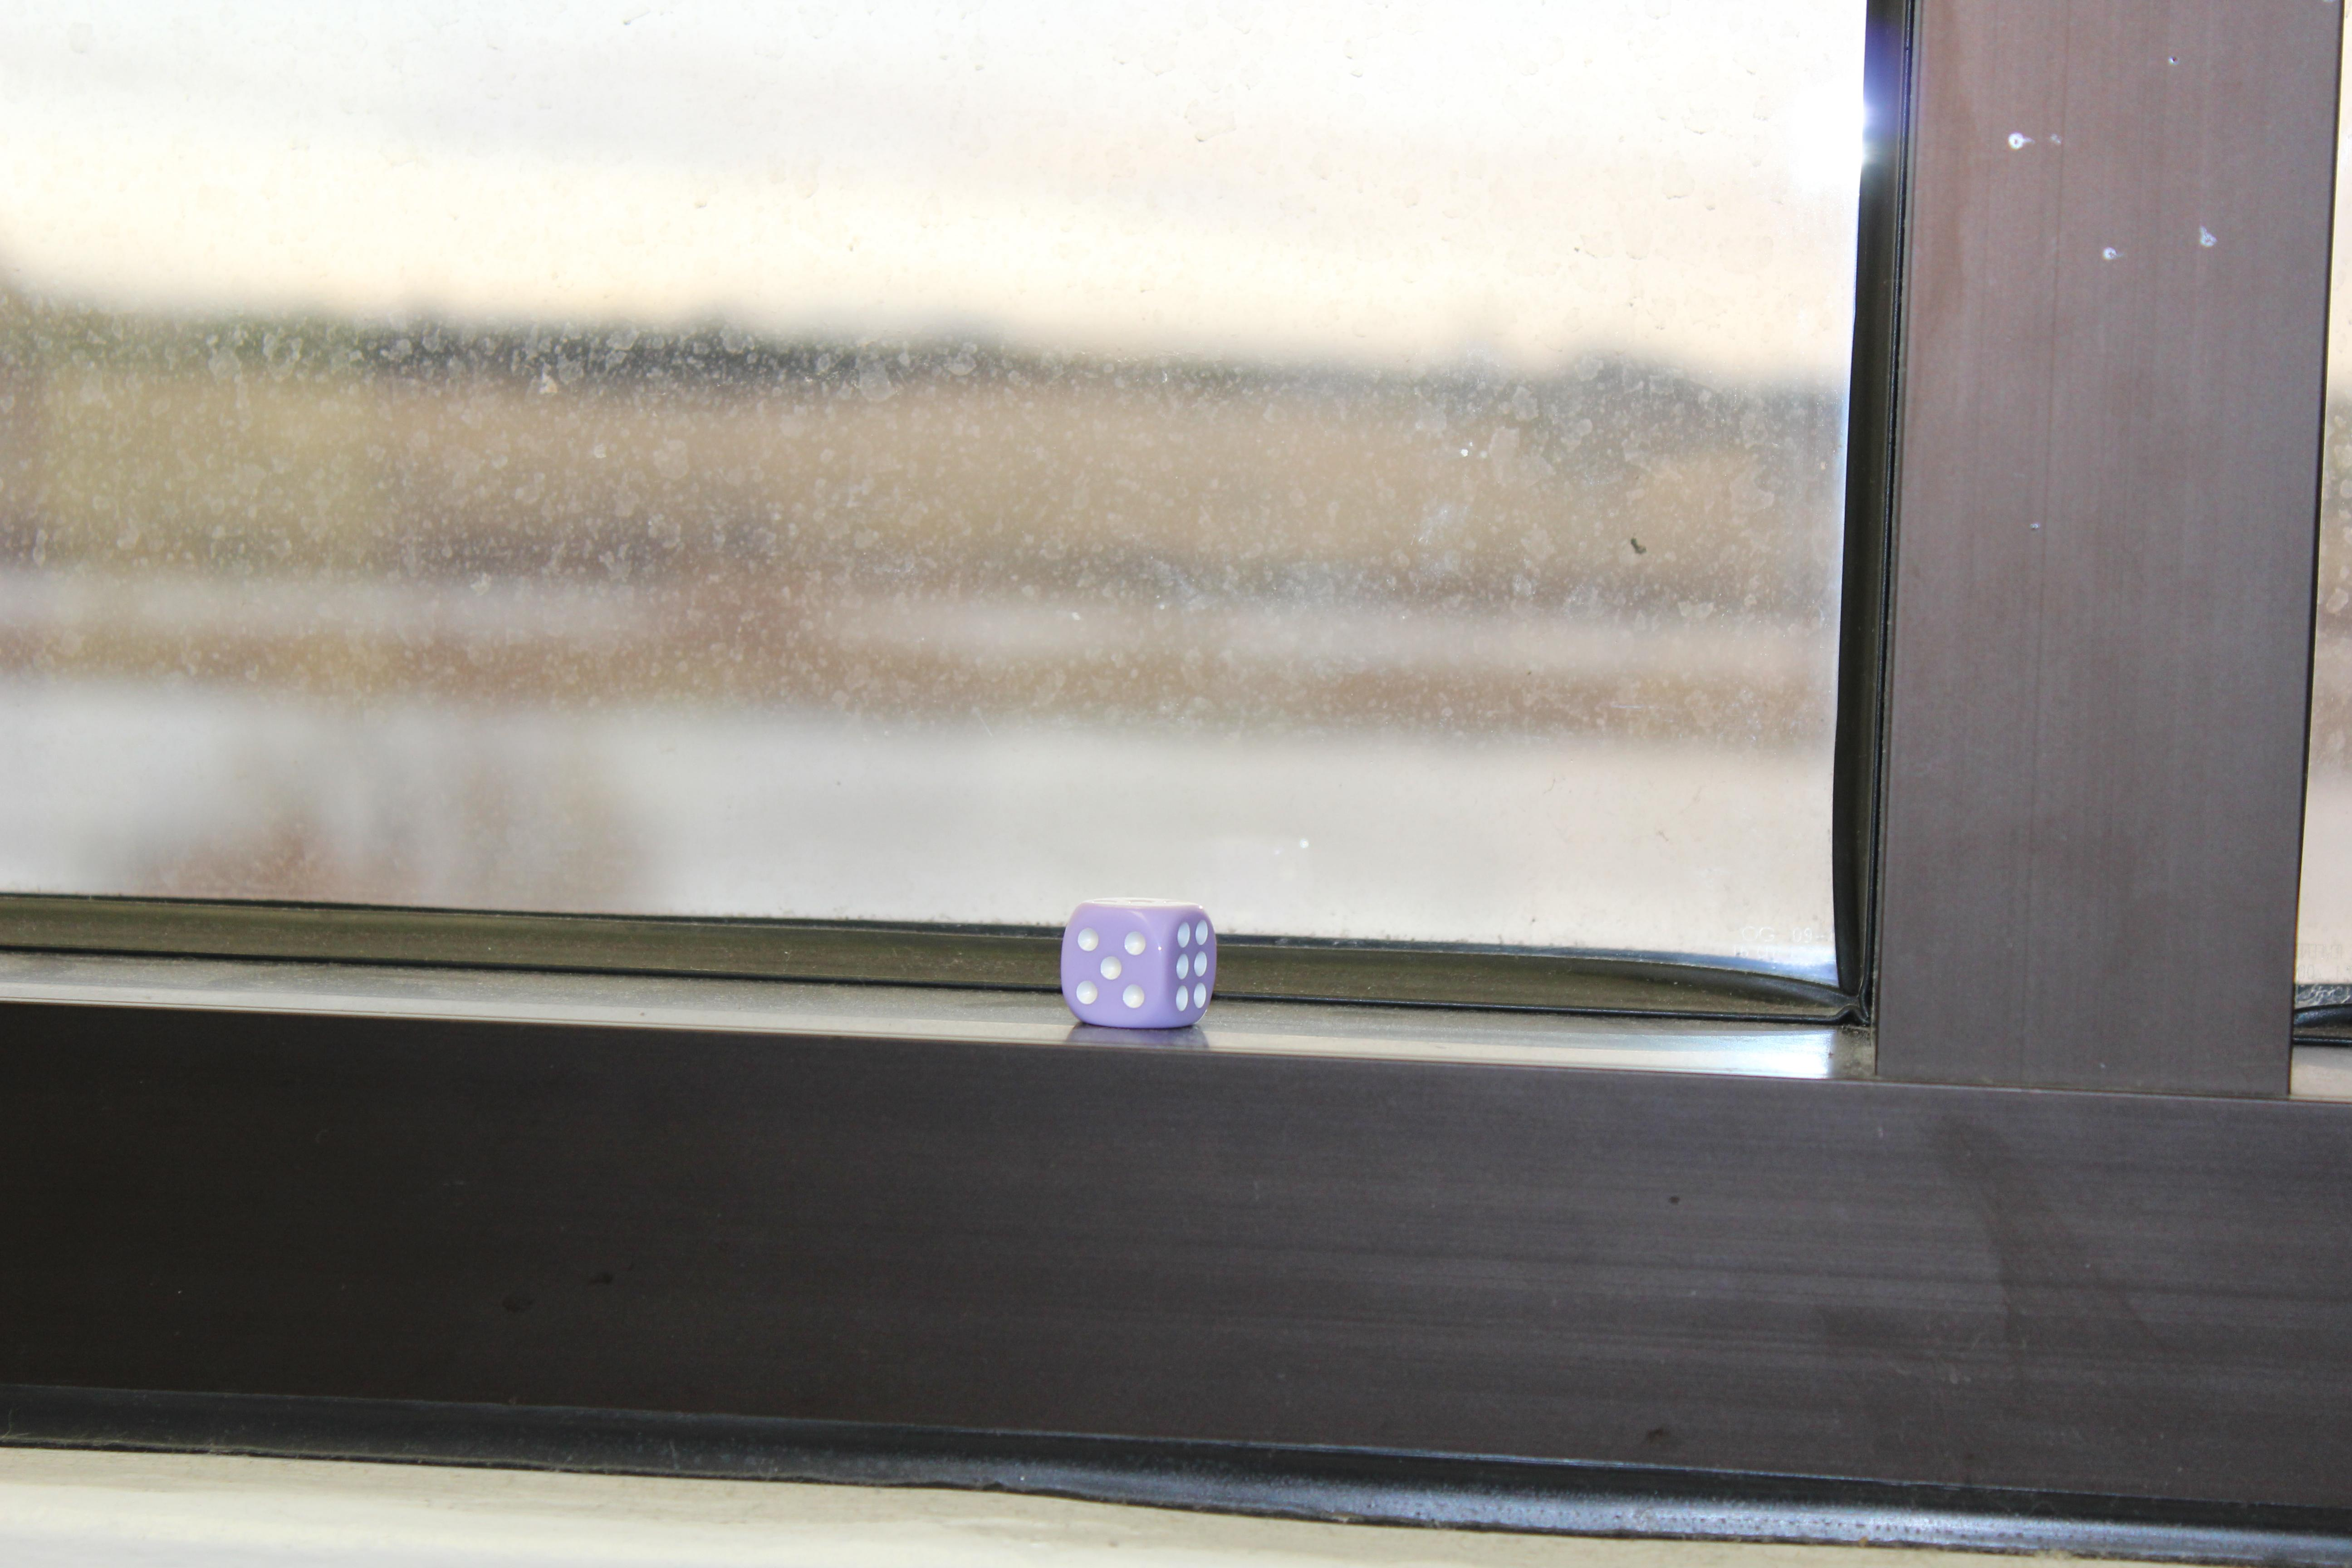lavenderDie: (1029, 866, 1239, 1068)
